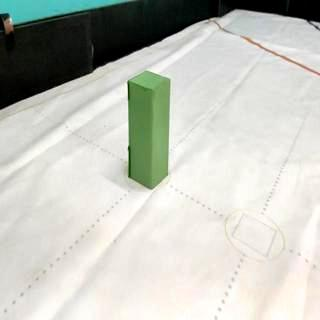greenbox: (129, 70, 169, 188)
